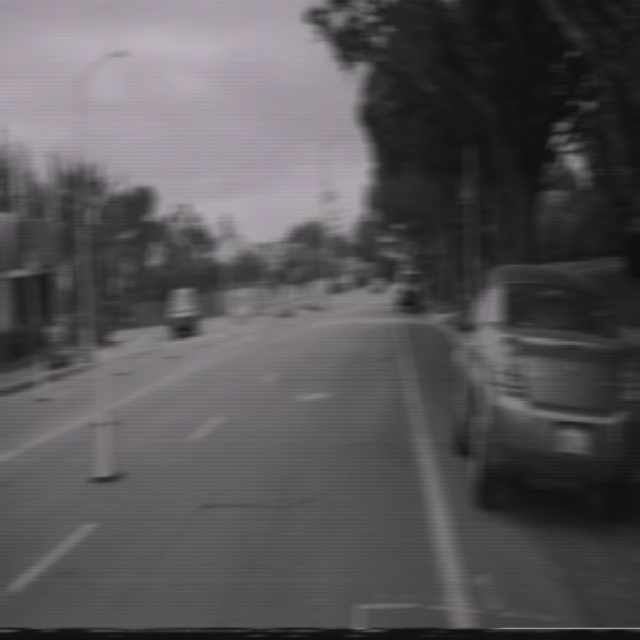pedestrianCrossing: (269, 232, 283, 259)
